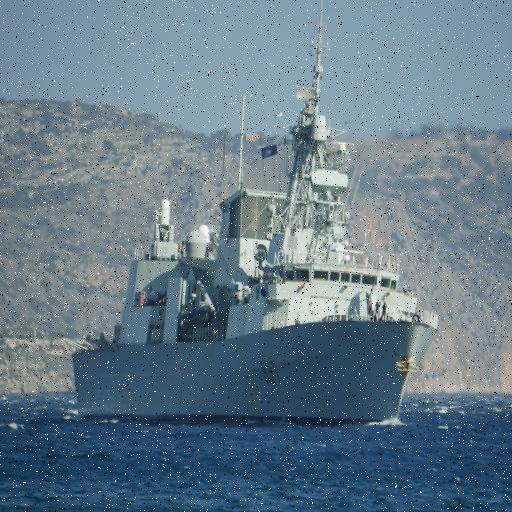Fragata: (72, 1, 444, 425)
